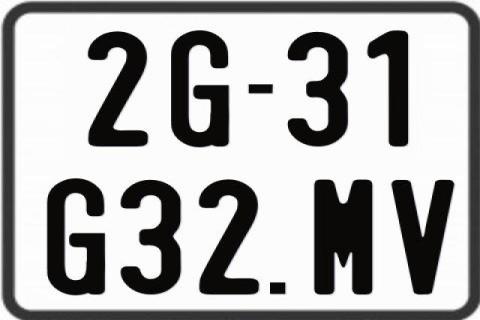0: (121, 180, 186, 299), (287, 29, 351, 149), (85, 30, 150, 148), (198, 178, 261, 294), (365, 30, 411, 148)
G: (169, 28, 233, 147), (47, 177, 108, 296)
M: (314, 178, 378, 296)
V: (391, 178, 458, 296)
